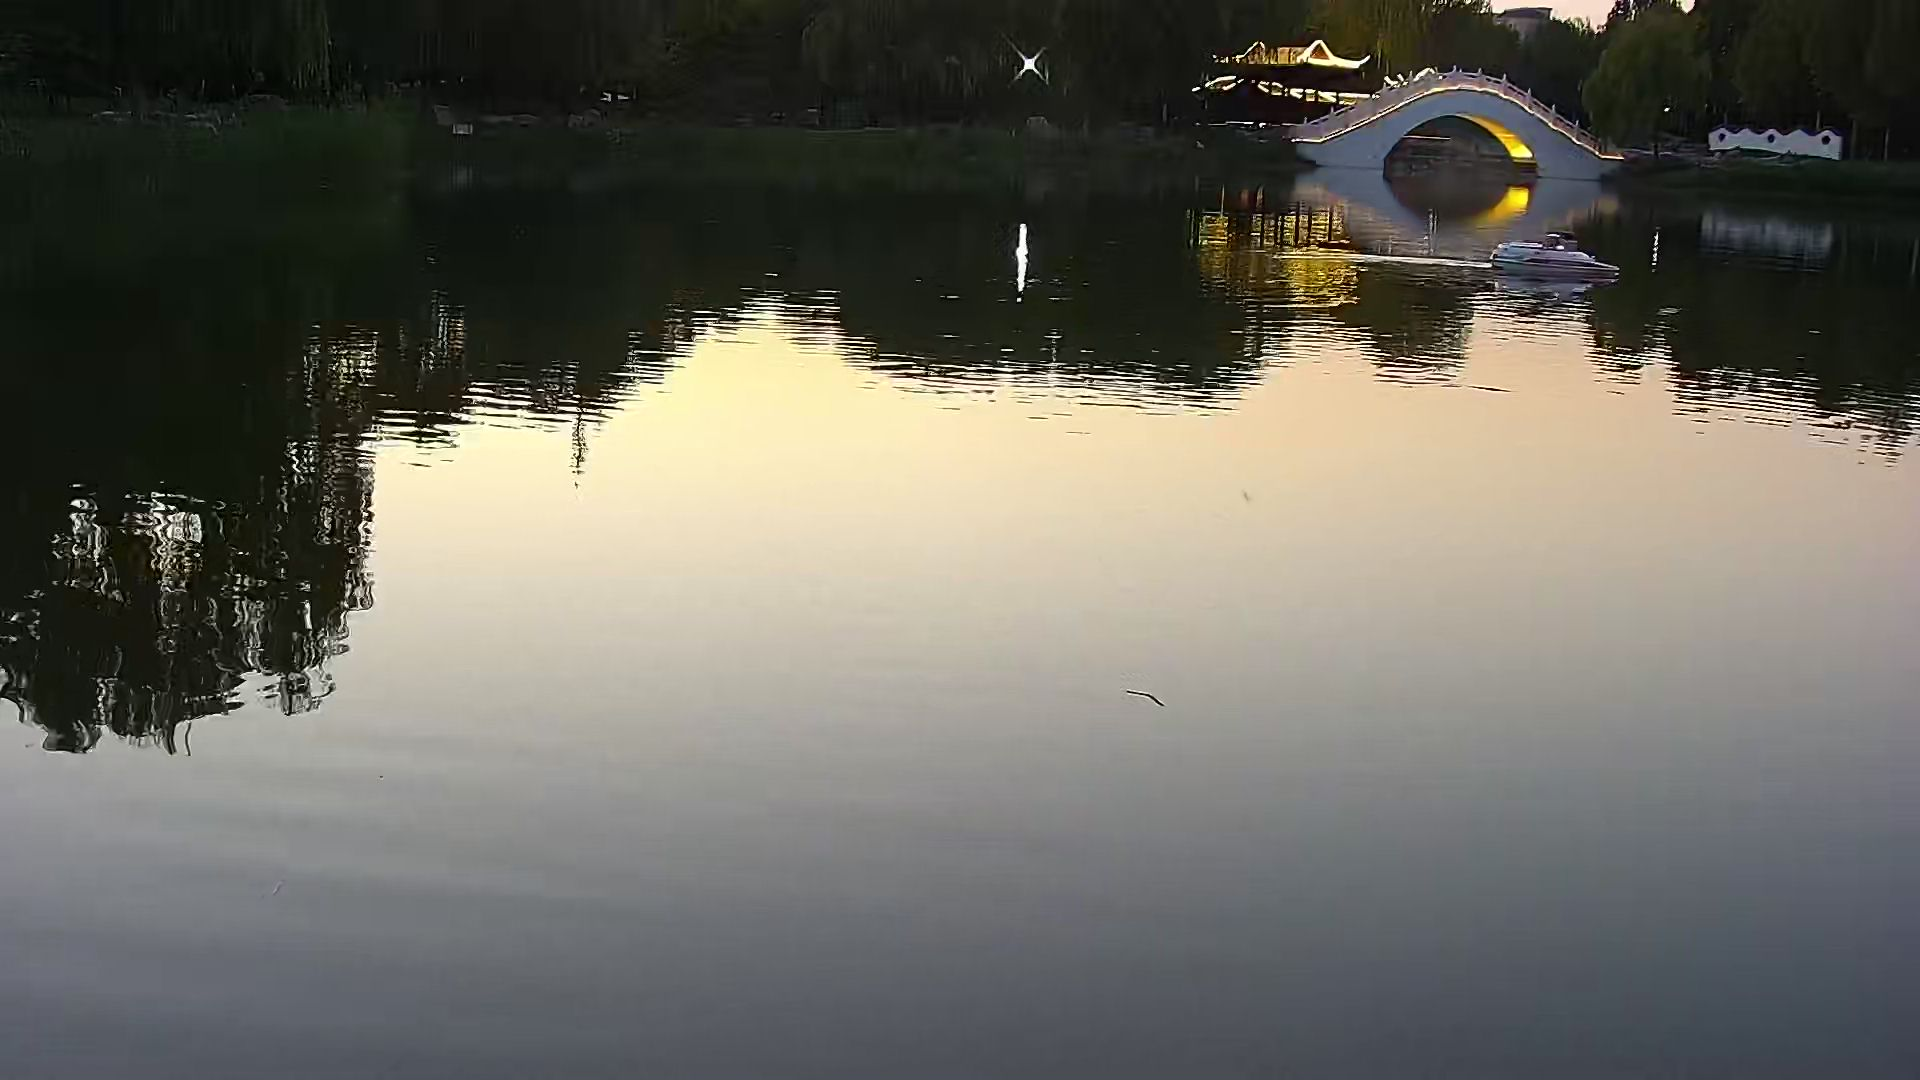boat: (1487, 227, 1615, 291)
bridge: (1299, 69, 1629, 177)
